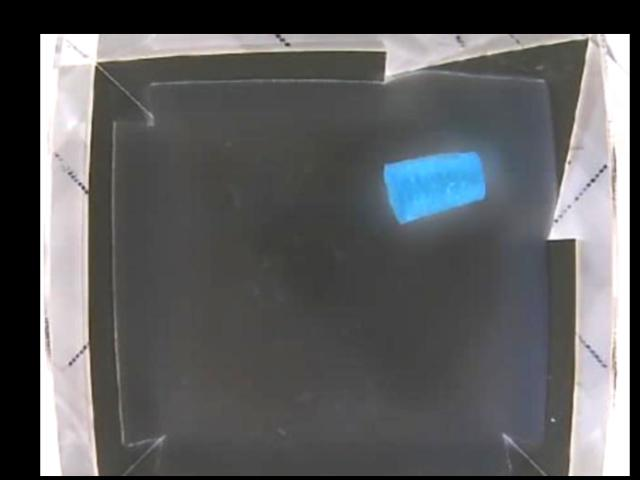Carrot: (379, 150, 486, 224)
